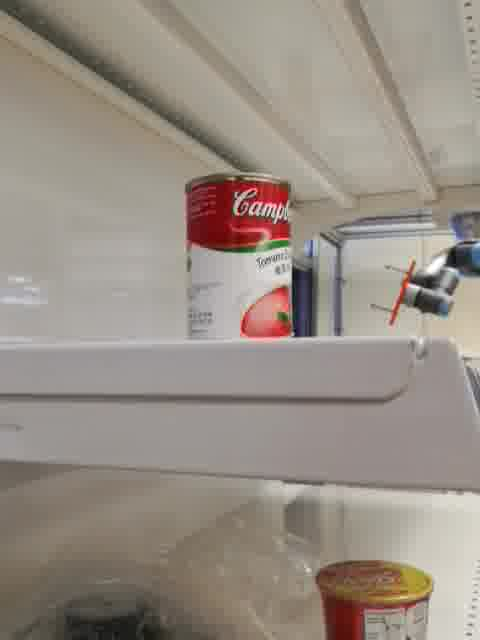tomatosoup: (183, 172, 294, 338)
